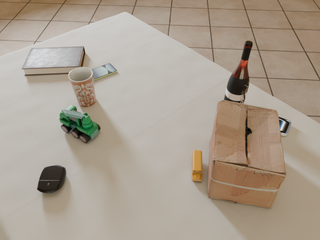book: (22, 46, 85, 75)
bottle: (224, 41, 253, 104)
box: (208, 100, 286, 208)
cup: (68, 67, 96, 107)
mouse: (37, 165, 66, 193)
phone: (92, 63, 117, 81), (279, 117, 291, 136)
toy_car: (59, 105, 100, 143), (192, 150, 202, 182)
